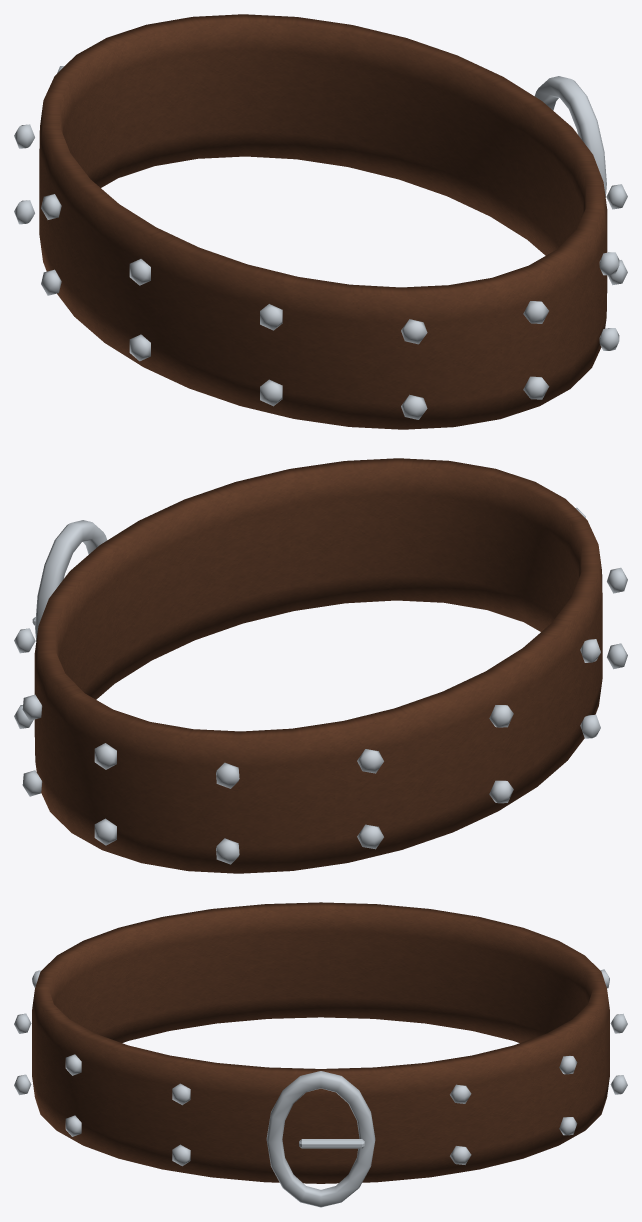
The model's file is item_belt1a.glb.
The picture shows the model from 3 angles, top to bottom: view 1: azimuth 30°, elevation 25°; view 2: azimuth 150°, elevation 25°; view 3: azimuth 270°, elevation 25°; orthographic projection. The views are drawn at different scales.
Visible parts, largest first — view 1: jewellery_belt1a; view 2: jewellery_belt1a; view 3: jewellery_belt1a.
Boxes of the visible parts, <box> form: jewellery_belt1a: <box>14,14,627,429</box>; jewellery_belt1a: <box>14,458,627,873</box>; jewellery_belt1a: <box>14,902,627,1207</box>.
Size of the model in its own units: 0.8469 by 0.268 by 1.12.
Materials: 3 (2 with a texture image).
